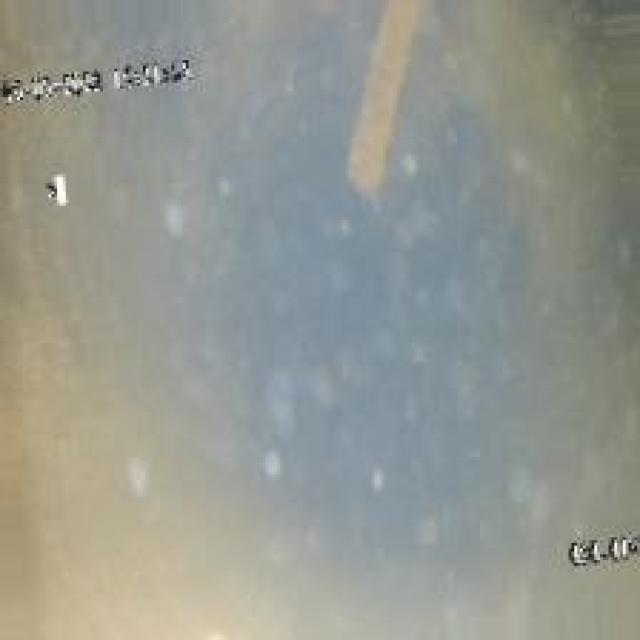ferrule: (340, 3, 411, 206)
